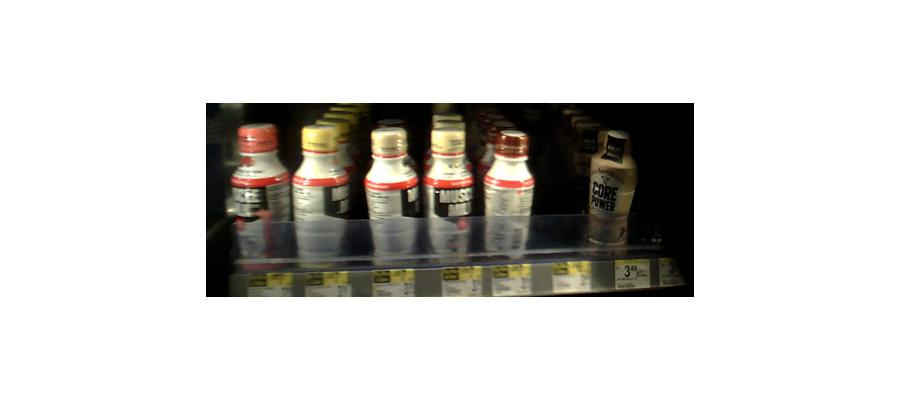bottle: (231, 121, 292, 280), (293, 126, 356, 275), (366, 128, 420, 264), (424, 118, 474, 261), (483, 127, 534, 259), (587, 123, 636, 254)
